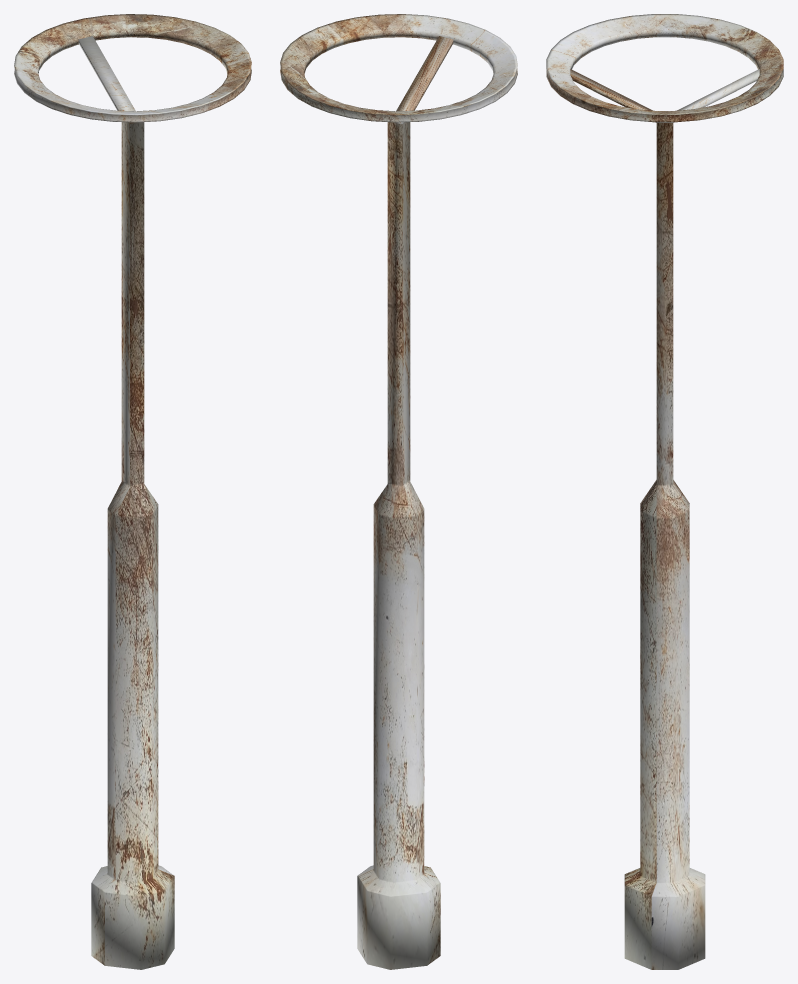
File: streetLamp01.obj
The picture shows the model from 3 angles, left to right: view 1: azimuth 30°, elevation 25°; view 2: azimuth 150°, elevation 25°; view 3: azimuth 270°, elevation 25°; orthographic projection.
Visible parts, largest first — view 1: Circle.001; view 2: Circle.001; view 3: Circle.001.
Part boxes in pixels (x1,y1,x2,y2): Circle.001: (14,14,251,969); Circle.001: (280,14,517,969); Circle.001: (546,14,783,969).
Bounding box in the file's own units: 1.18 × 4.87 × 1.18.
2 materials, 1 textured.
